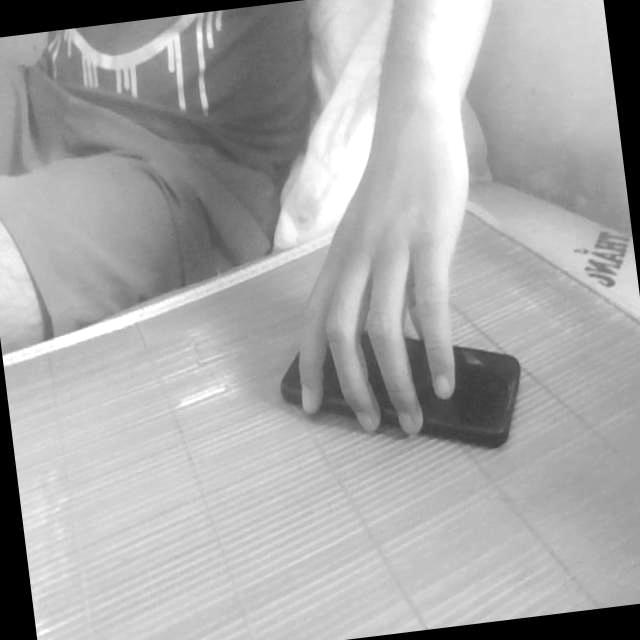phone: (256, 274, 542, 490)
